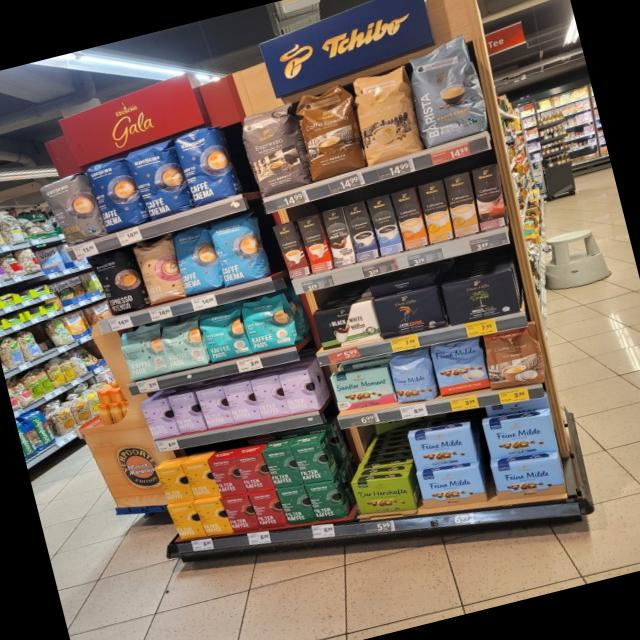BM Gemahlen: (438, 265, 524, 330)
BW Gemahlen: (310, 297, 382, 354)
Barista CC: (403, 39, 491, 148)
CC Mild: (345, 65, 423, 165)
CC Vollmundig: (479, 322, 546, 393)
CC Vollmundig 36 Pads: (292, 80, 366, 180)
Espresso M Art: (236, 102, 310, 198)
FM 36 Pads: (428, 334, 491, 401)
FM Bohne: (387, 349, 438, 407)
FM Gemahlen: (412, 454, 489, 518), (488, 448, 569, 508), (479, 406, 558, 467), (406, 419, 480, 476)
Herzhatfe Mundig: (349, 466, 417, 522)
LG Gemahlen: (371, 284, 448, 342)
SM Gemahlen: (327, 361, 398, 418)
Simo CC Colombia: (473, 163, 508, 230)
Simo CCMild bigpack: (418, 180, 453, 242)
Simo CCVollmundig bigpack: (390, 187, 428, 250)
Simo Decaff: (443, 172, 479, 235)
Simo Es Brazil: (296, 214, 334, 272)
Simo Es Caramel: (273, 221, 310, 278)
Simo Es Elegant: (322, 207, 355, 266)
Simo Es Kraft: (343, 200, 378, 261)
Simo Es Vanilla: (368, 195, 403, 255)
